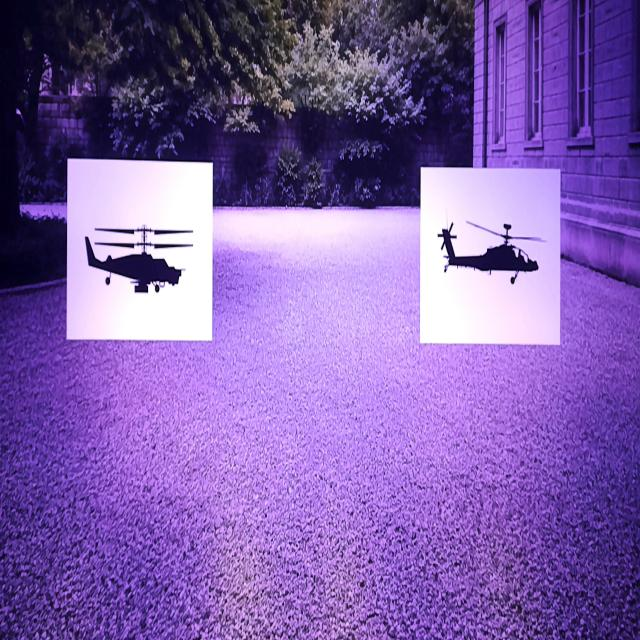Apache friendly: (438, 222, 544, 283)
Ka-52 Enemy: (86, 226, 192, 292)
